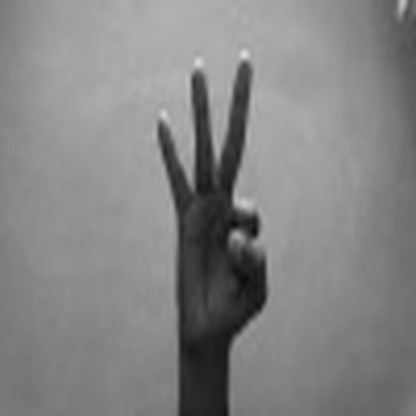f: (136, 46, 298, 325)
